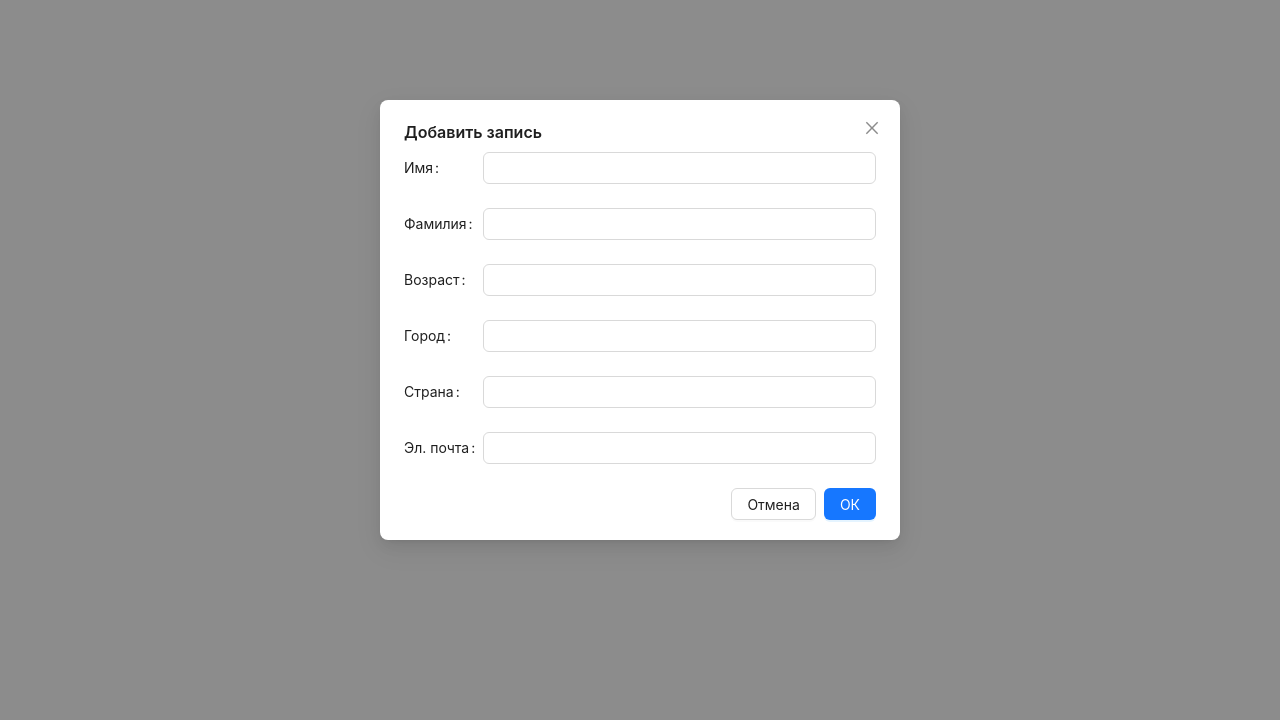
AddNewRecordModal › shows validation message if incorrect email was entered
Type "foo bar" into the field labelled "Эл. почта".
click(679, 448); type("foo bar")  # box [483,432,876,464]
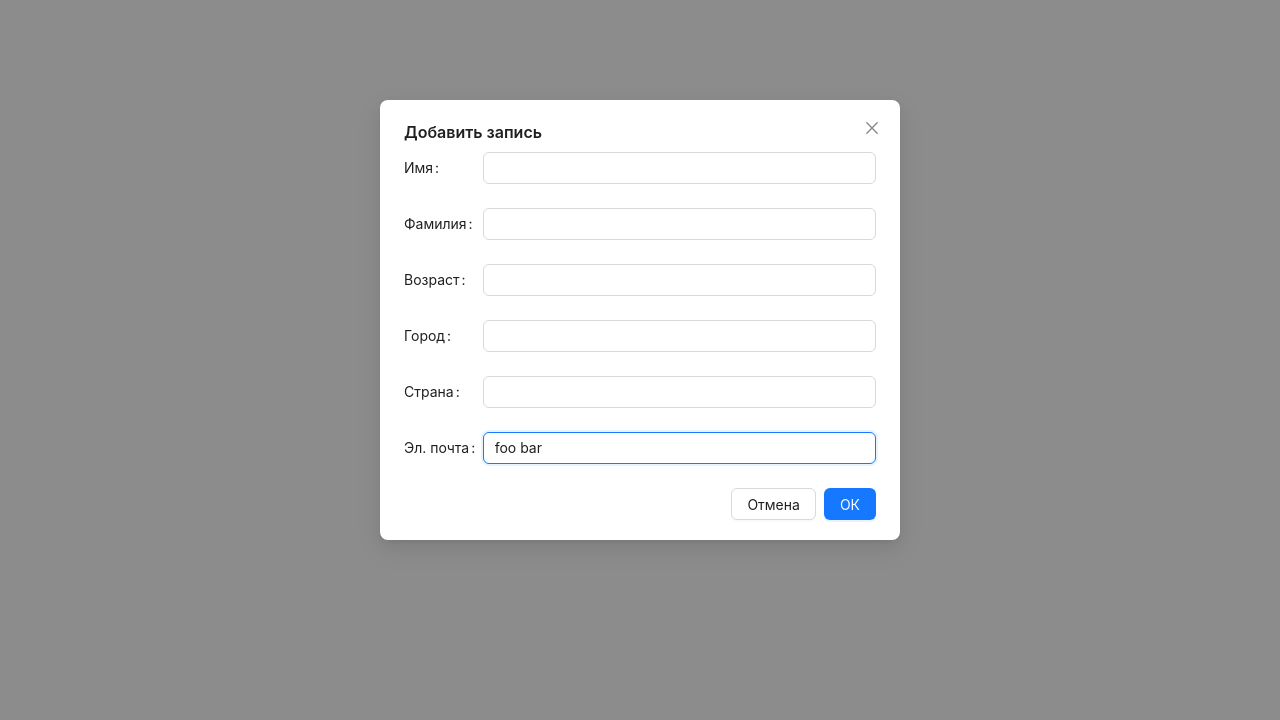
Click the field labelled "Имя".
click(679, 168)  # box [483,152,876,184]
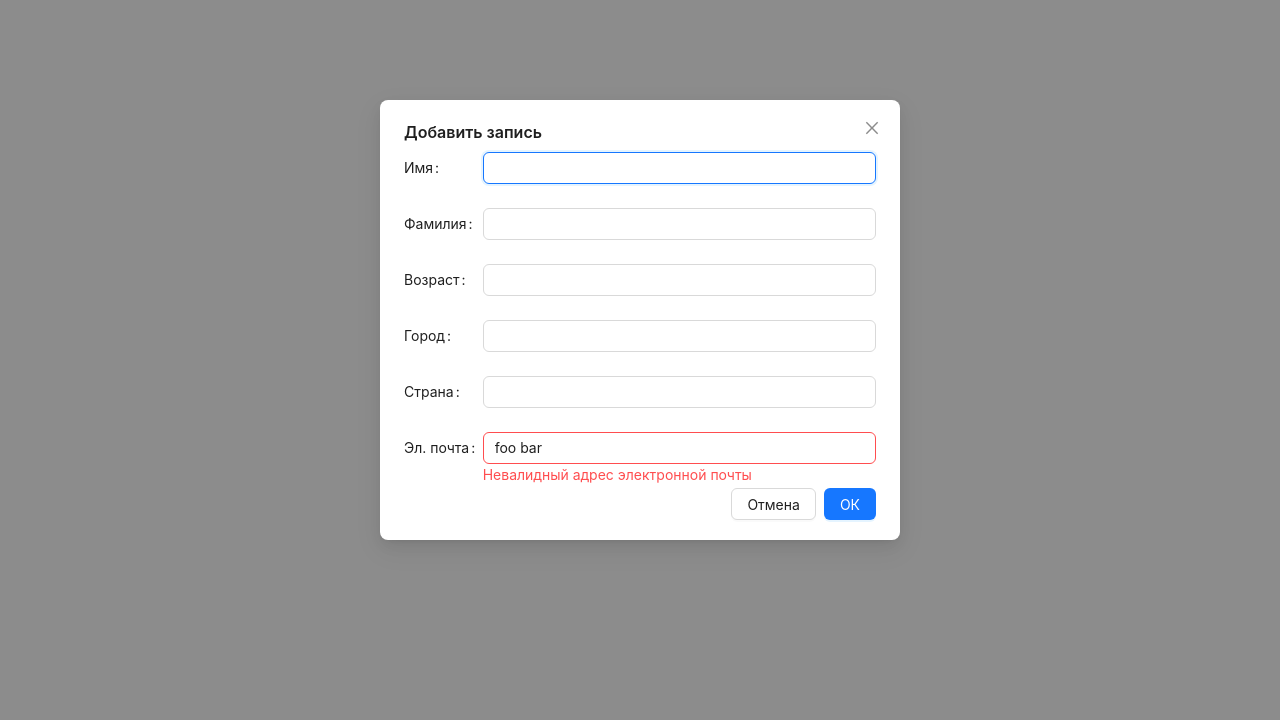
Expected: the text "Невалидный адрес электронной почты" is shown, [483,466,752,483]
